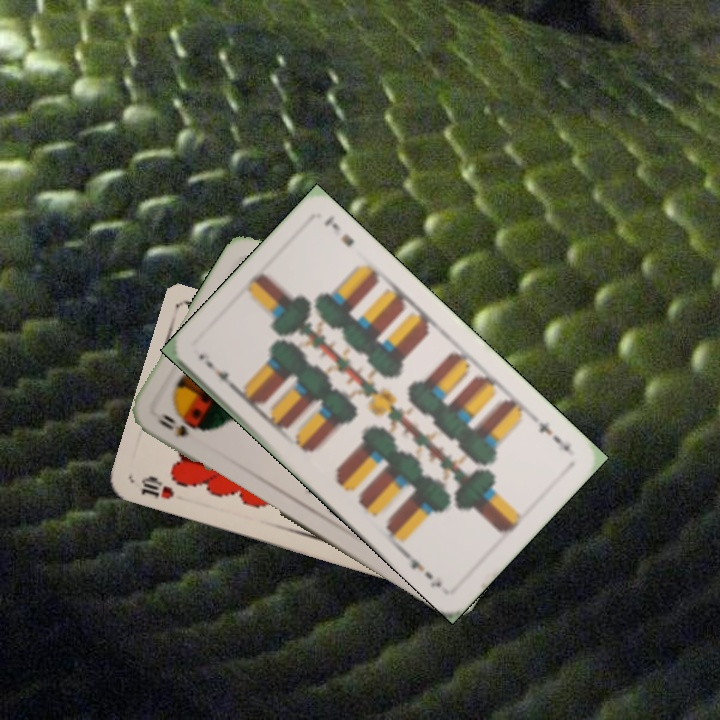E7: (201, 356, 241, 394), (534, 417, 574, 455)
H10: (137, 473, 177, 502)
SO: (152, 408, 192, 441)
